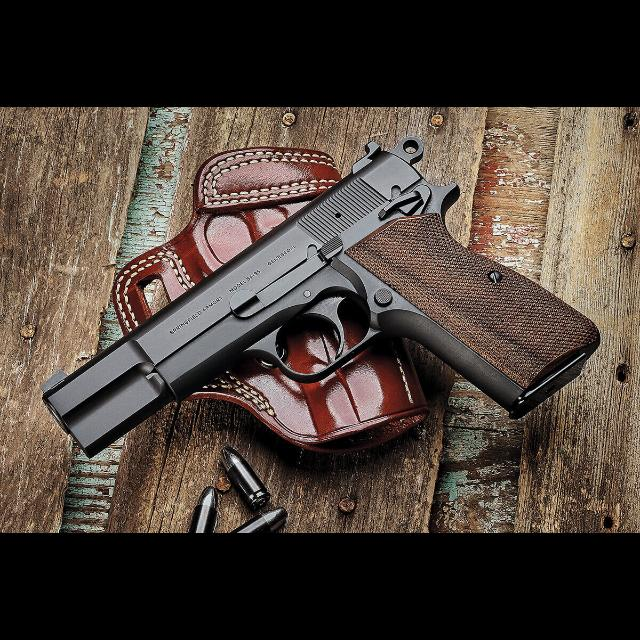handgun: (32, 132, 604, 466)
